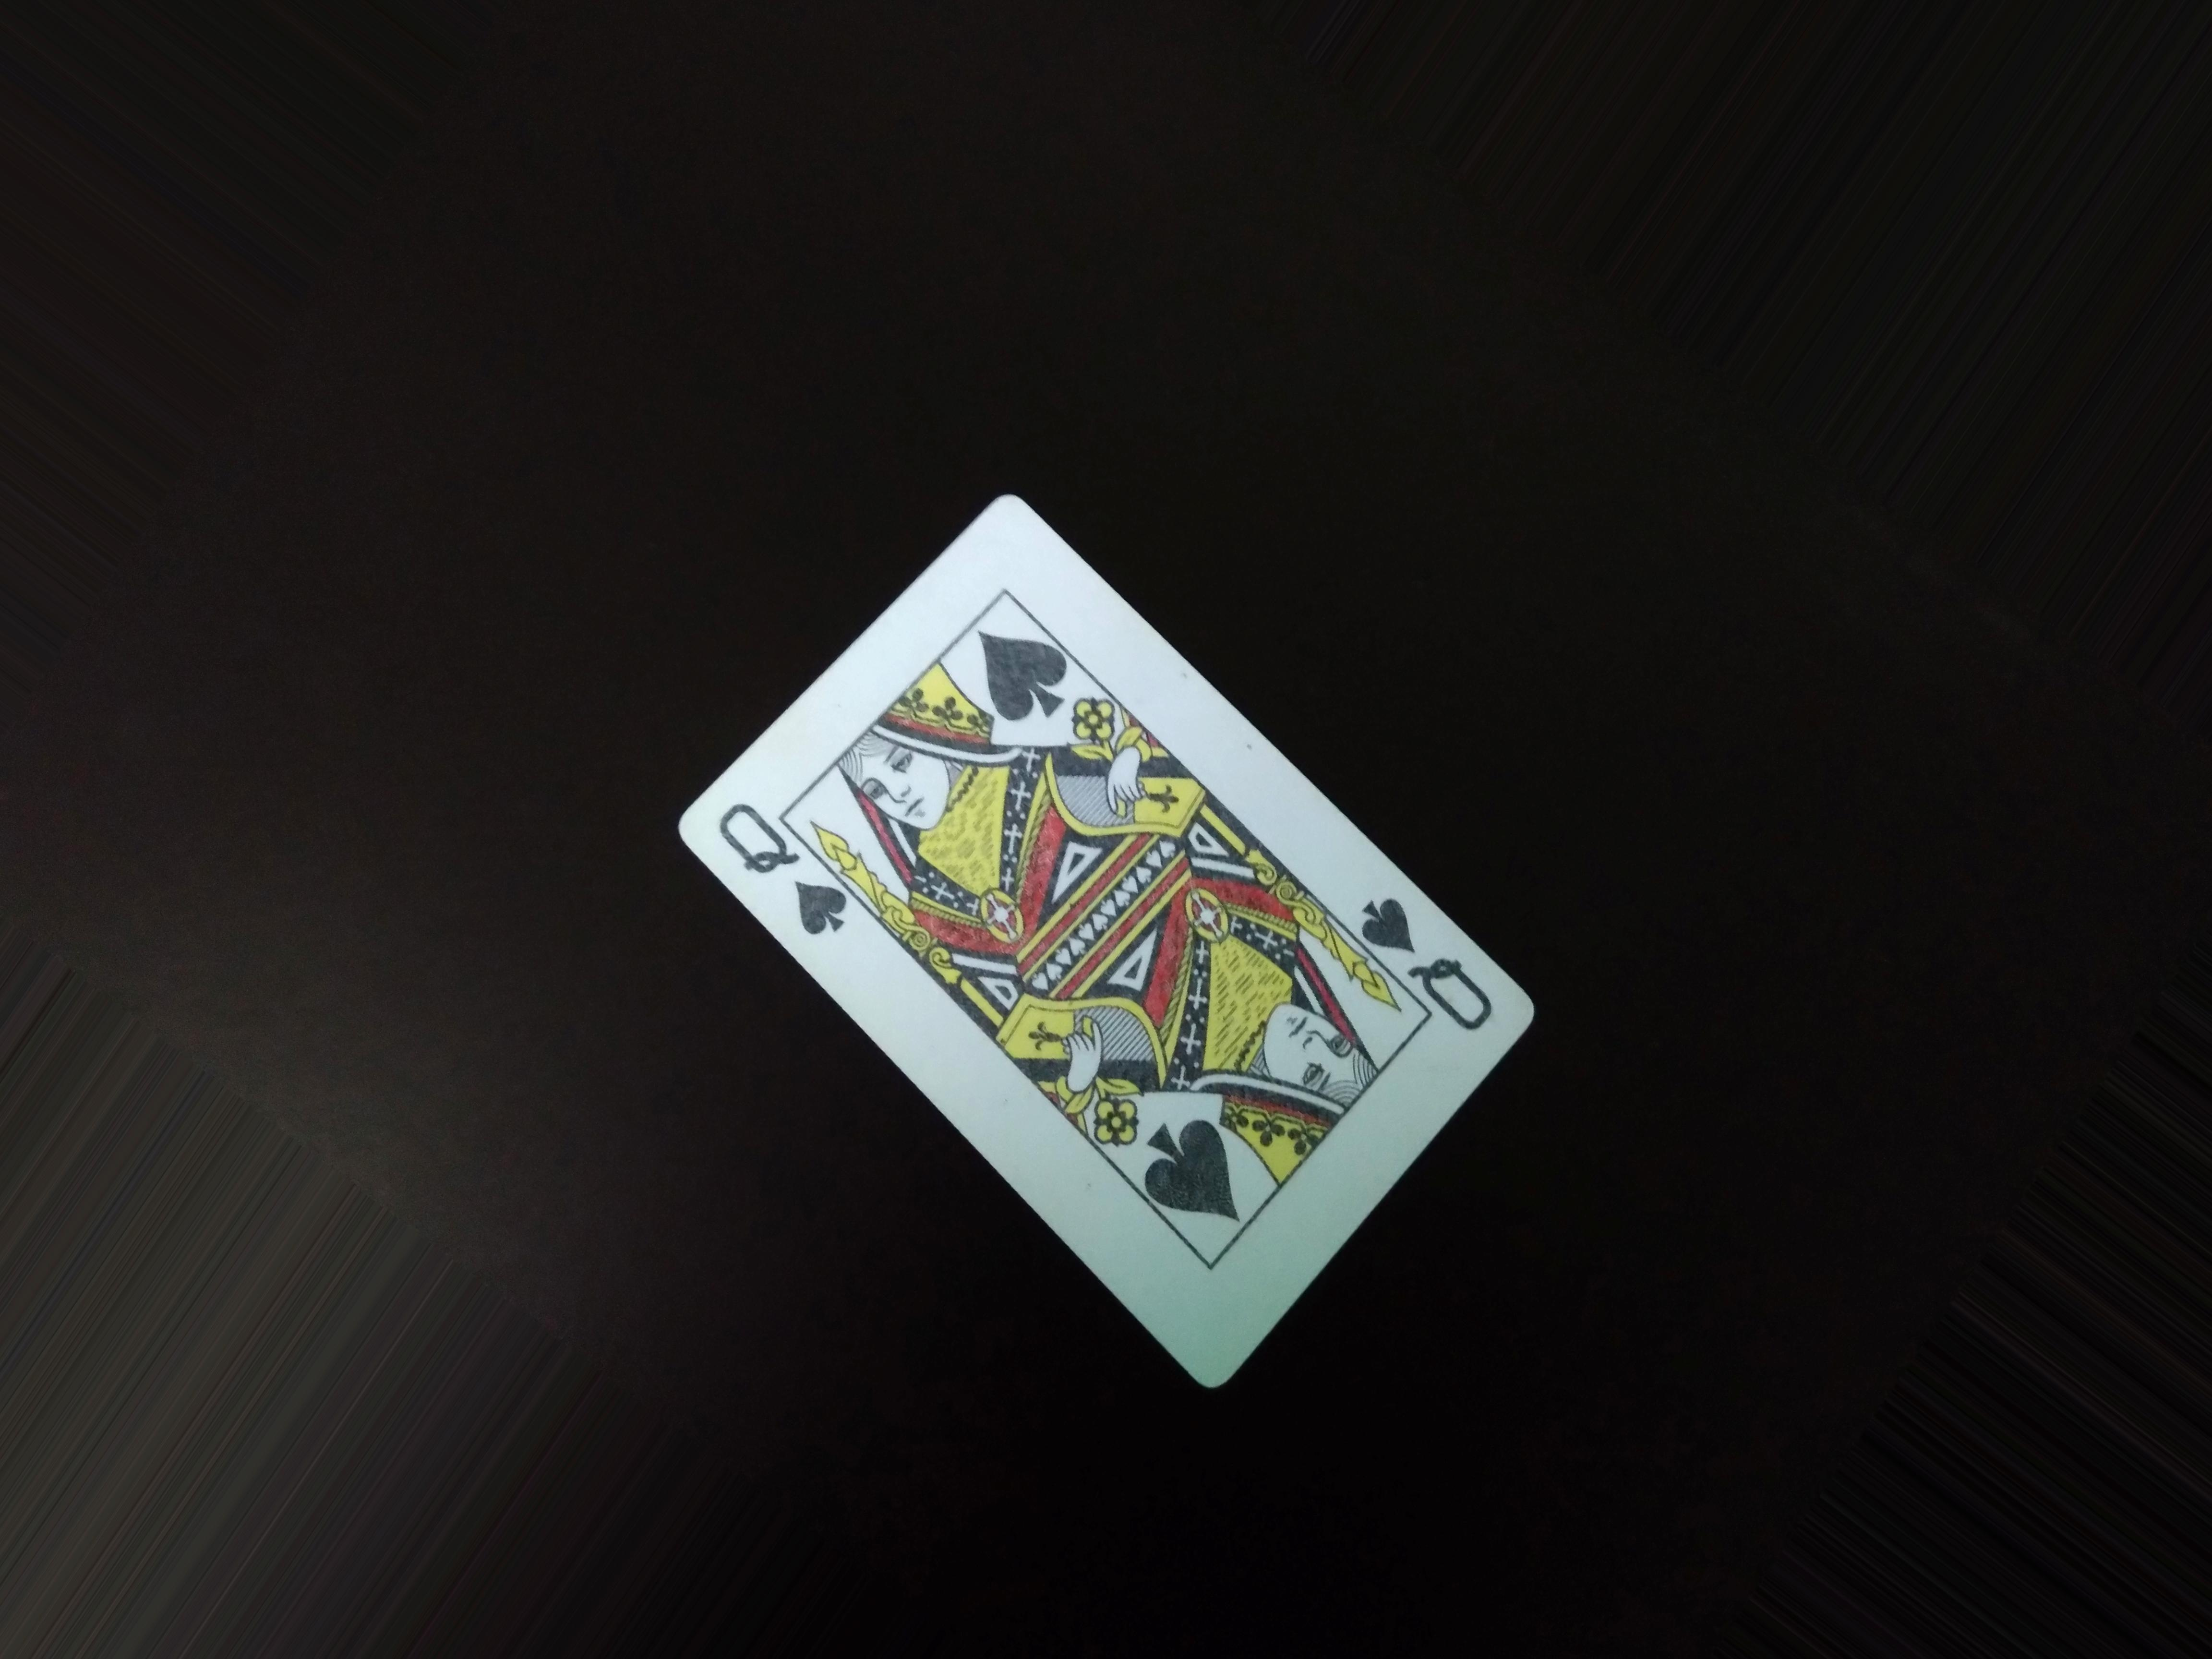QS: (704, 798, 866, 945)
